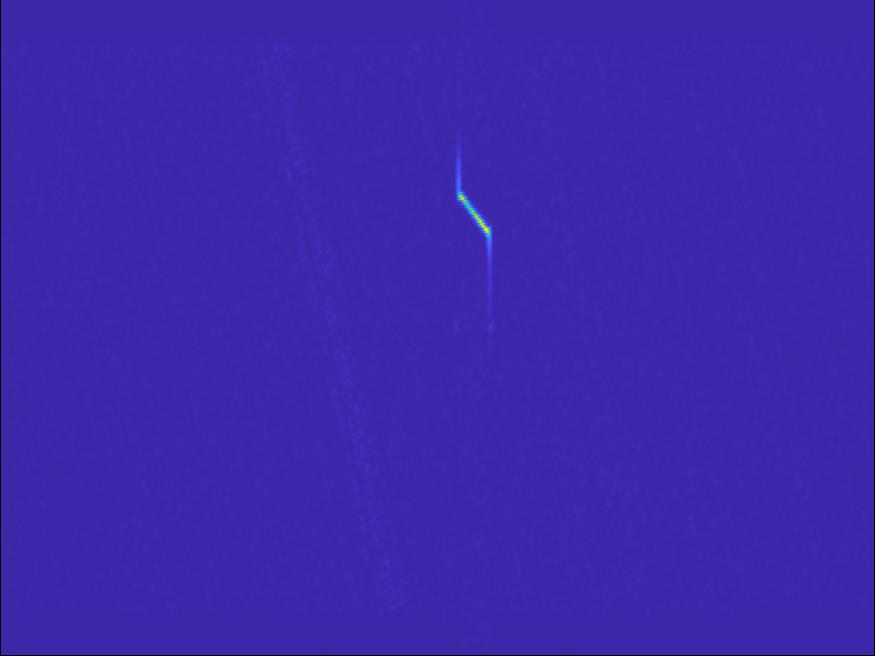Interference: (135, 499, 320, 649), (346, 284, 573, 380), (533, 532, 645, 585), (642, 301, 724, 354), (1, 409, 64, 451), (293, 1, 356, 38)
